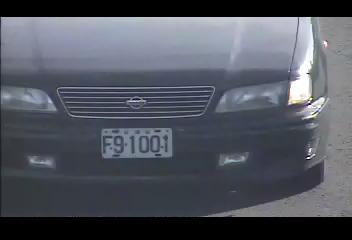plate: (100, 127, 174, 159)
